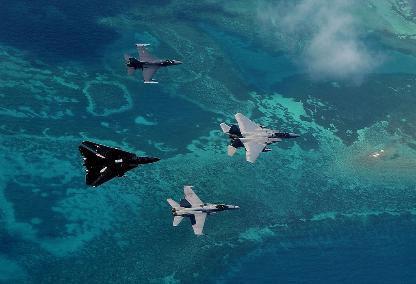EF2000: (77, 139, 161, 187)
F117: (219, 112, 301, 162)
F14: (123, 43, 183, 82)
F15: (166, 184, 240, 235)
